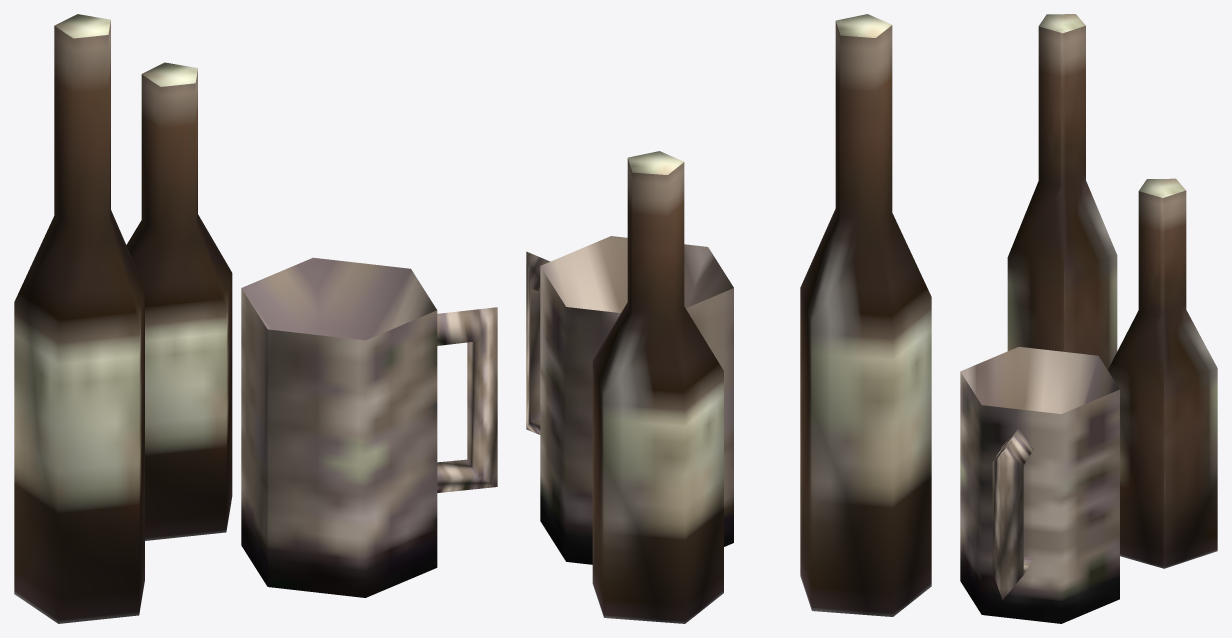
The picture shows the model from 3 angles, left to right: view 1: azimuth 30°, elevation 25°; view 2: azimuth 150°, elevation 25°; view 3: azimuth 270°, elevation 25°; orthographic projection. The views are drawn at different scales.
Visible parts, largest first — view 1: Beer03; view 2: Beer03; view 3: Beer03.
Part boxes in pixels (x1,y1,x2,y2): Beer03: (14,14,497,623); Beer03: (526,14,931,623); Beer03: (960,14,1217,623).
Bounding box in the file's own units: 47.72 × 61.83 × 30.56.
